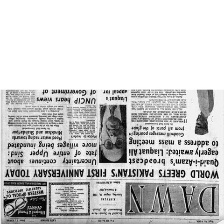news_paper: (0, 88, 224, 223)
